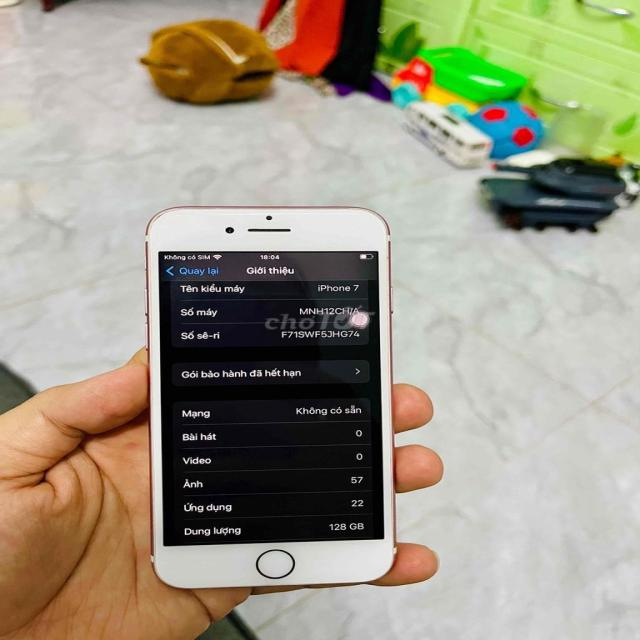gen_7_8: (135, 204, 407, 601)
